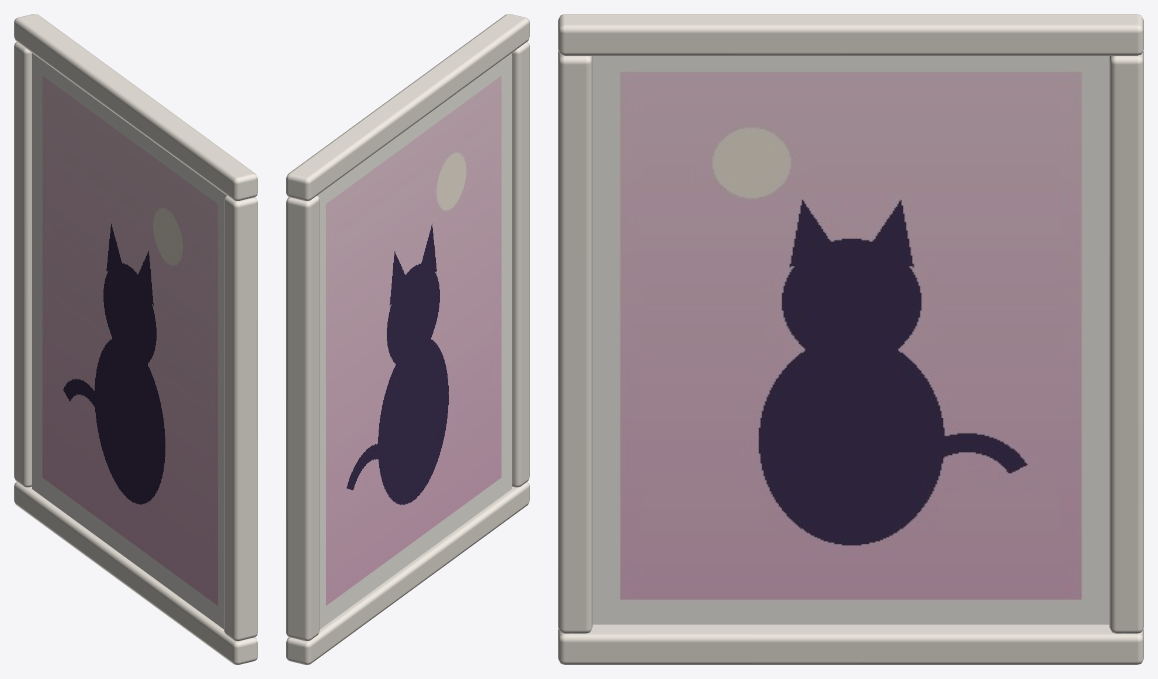
Rendered from print_cat.fbx.
3 views of the same model, side by side, from view 1: azimuth 30°, elevation 25°; view 2: azimuth 150°, elevation 25°; view 3: azimuth 270°, elevation 25° (orthographic). The views are drawn at different scales.
Visible parts, largest first — view 1: print_cat; view 2: print_cat; view 3: print_cat.
Boxes of the visible parts, box(x1,y1,x2,y2) form: print_cat: box(14, 14, 257, 664); print_cat: box(286, 14, 529, 664); print_cat: box(558, 14, 1143, 664).
Bounding box in the file's own units: 0.022 × 0.41 × 0.34.
